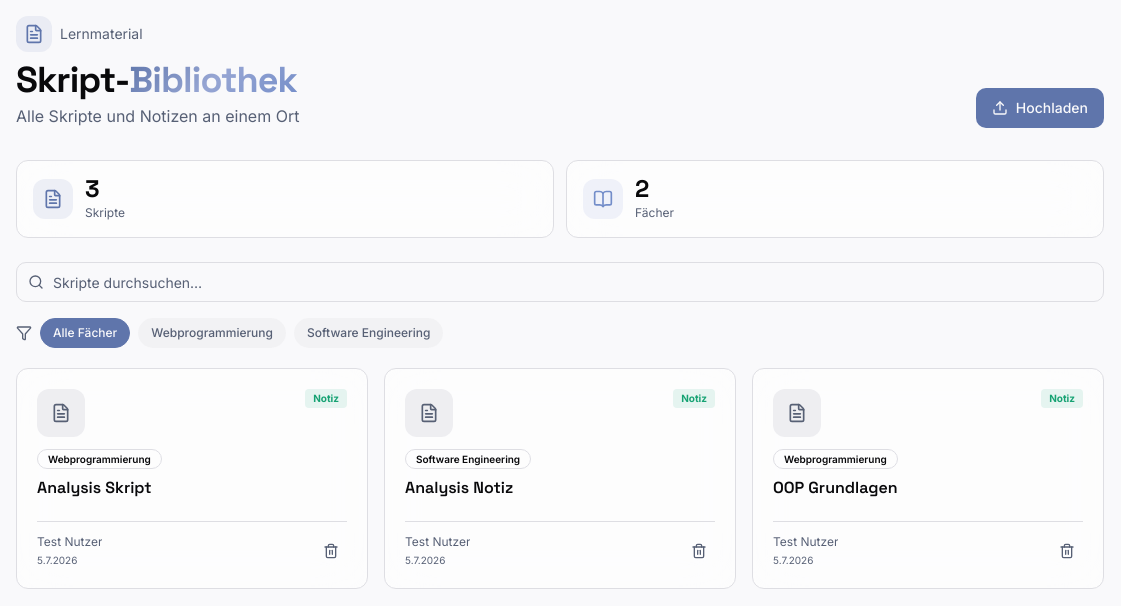
it: SkriptePage – Suche und Subject-Filter › Suche und Subject-Filter wirken kombiniert (AND-Logik)
Click the button "Webprogrammierung" at (212, 333), box top-left (138, 318), bottom-right (286, 348)
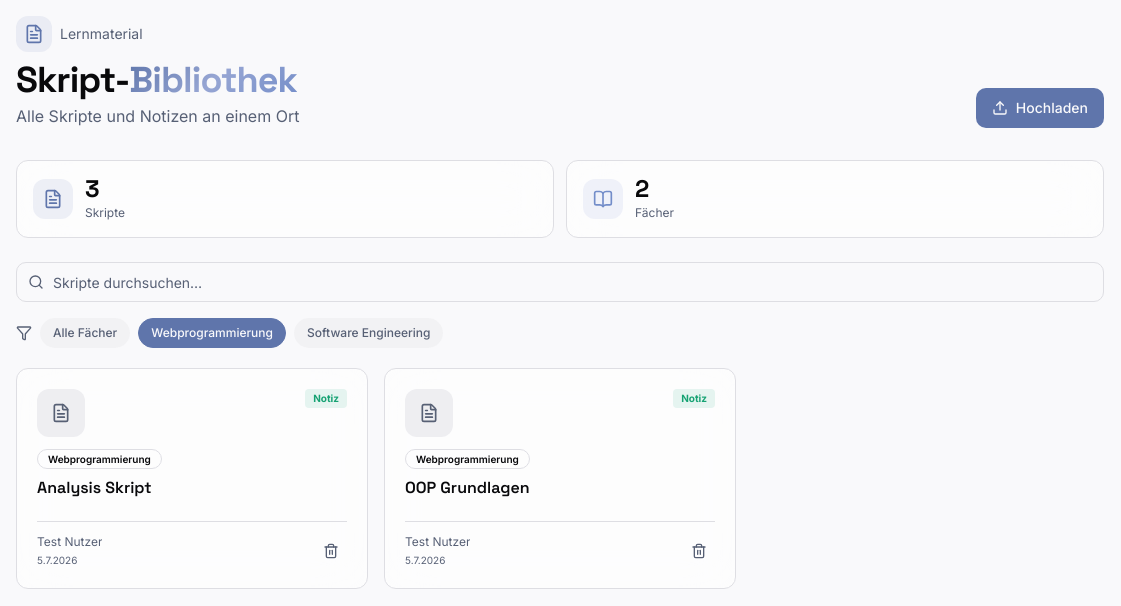
Type "Analysis" into the field with placeholder "Skripte durchsuchen…" at (560, 282), box top-left (16, 262), bottom-right (1104, 302)
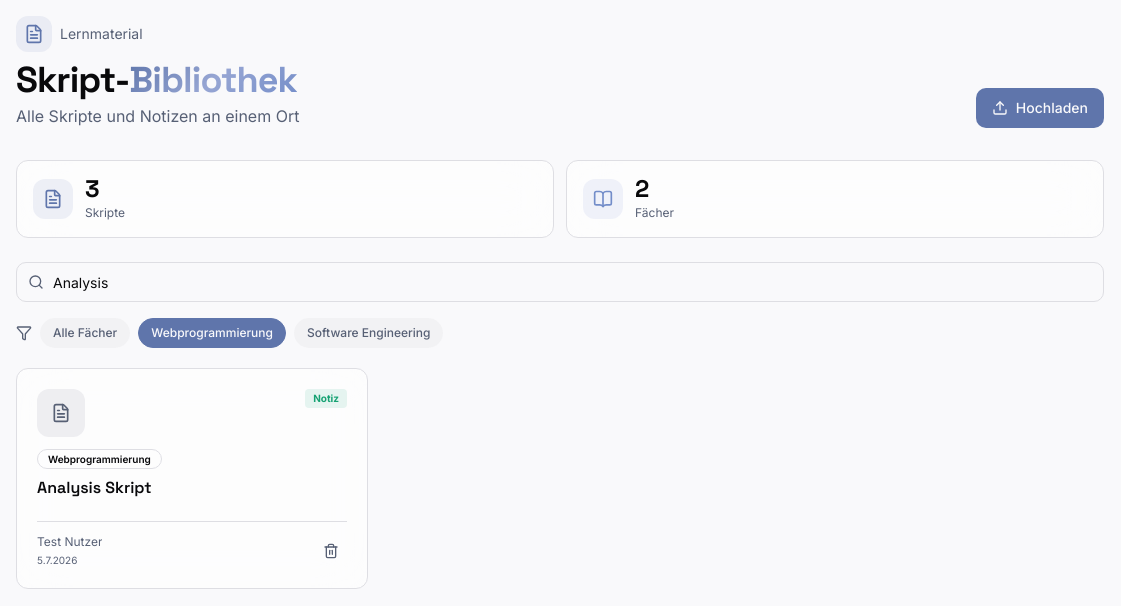
Check: the heading "Analysis Skript" is shown, box top-left (37, 477), bottom-right (152, 498)
Check: the heading "OOP Grundlagen" is gone
